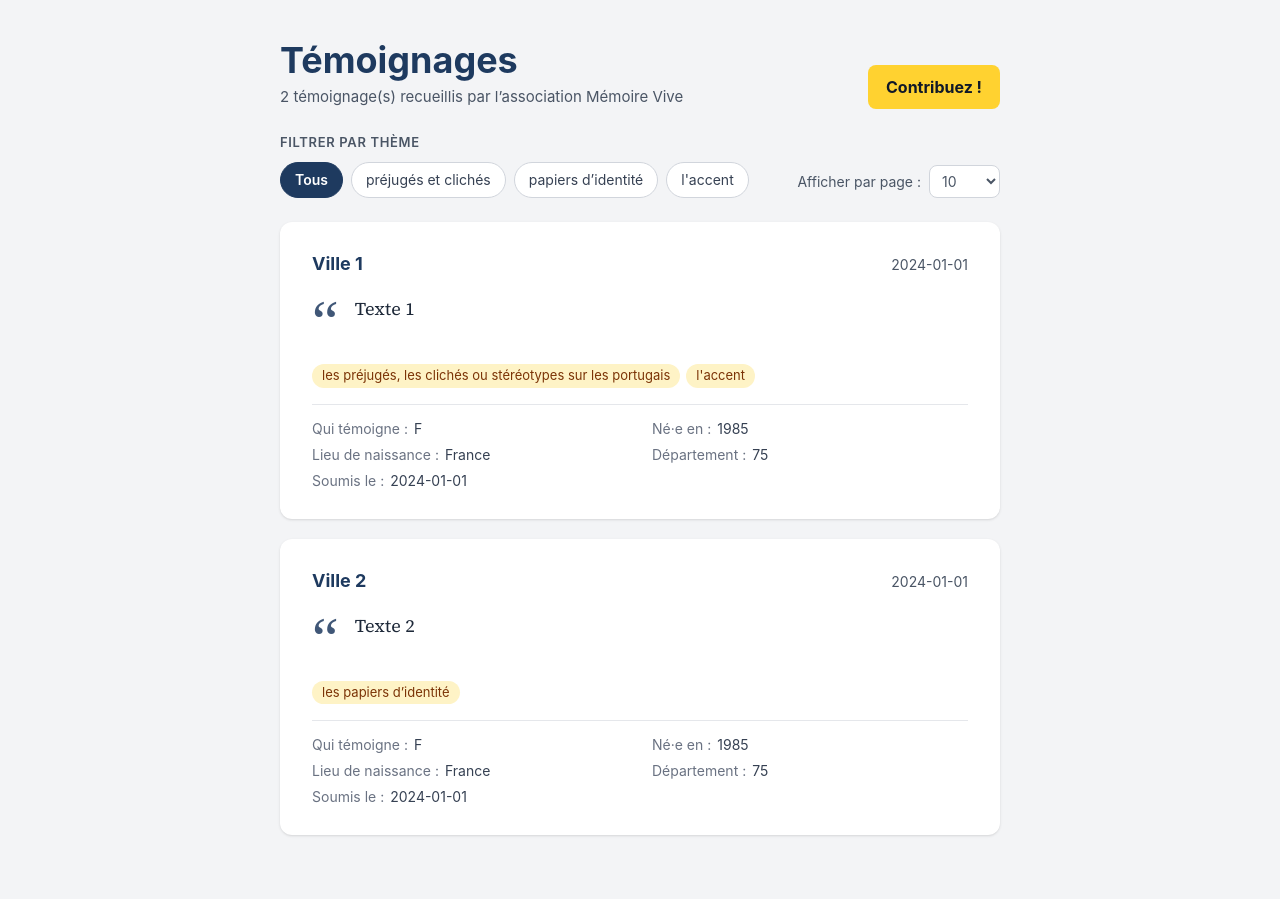
Test case: Testimonies Page › filters testimonies by theme
Expected: the list with test id "list" is shown, x1=280 y1=222 x2=1000 y2=835
Click the button "préjugés et clichés" at (428, 180), box x1=351 y1=162 x2=506 y2=198
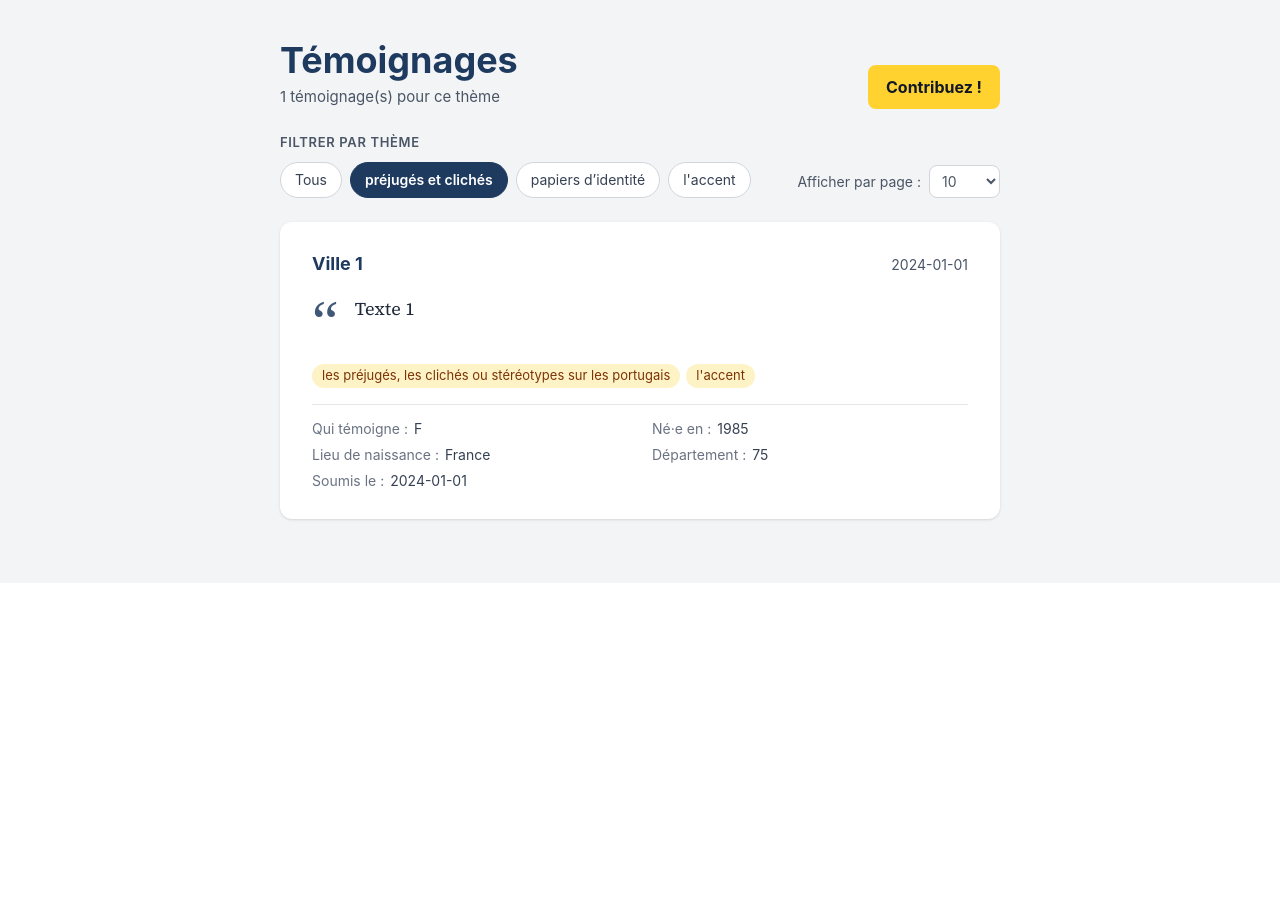
Expected: the text "Texte 1" is shown, x1=355 y1=294 x2=415 y2=325
Expected: the text "Texte 2" is gone
Expected: the text with test id "count" reads "1 témoignage(s) pour ce thème", x1=280 y1=86 x2=518 y2=108
Click the button "Tous" at (311, 180), box x1=280 y1=162 x2=342 y2=198
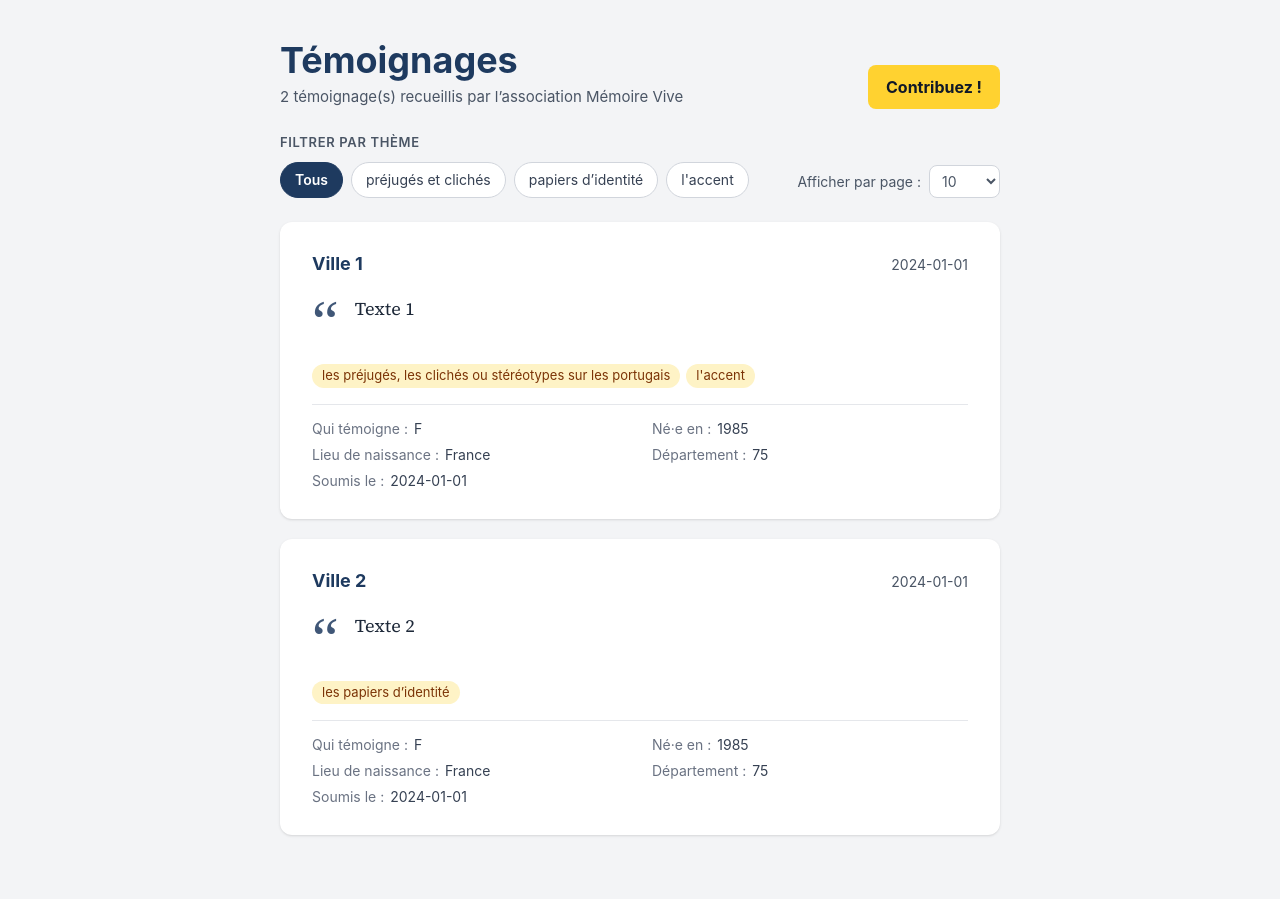
Expected: the text "Texte 2" is shown, x1=355 y1=610 x2=415 y2=641
